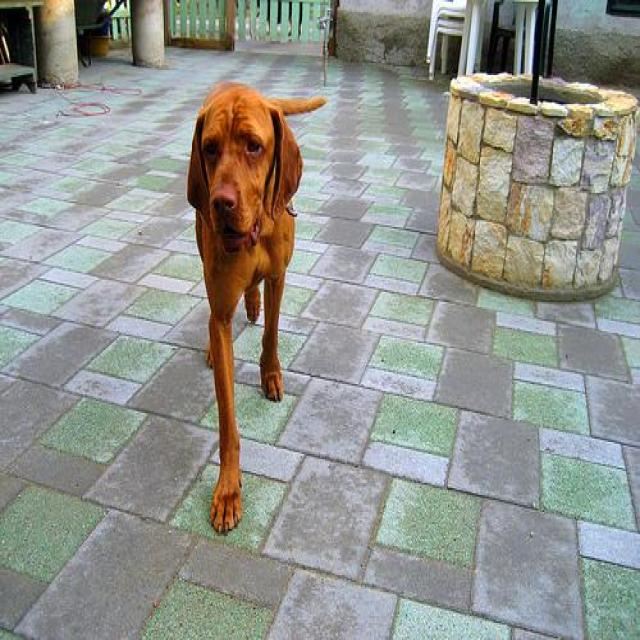vizsla: (183, 77, 328, 534)
